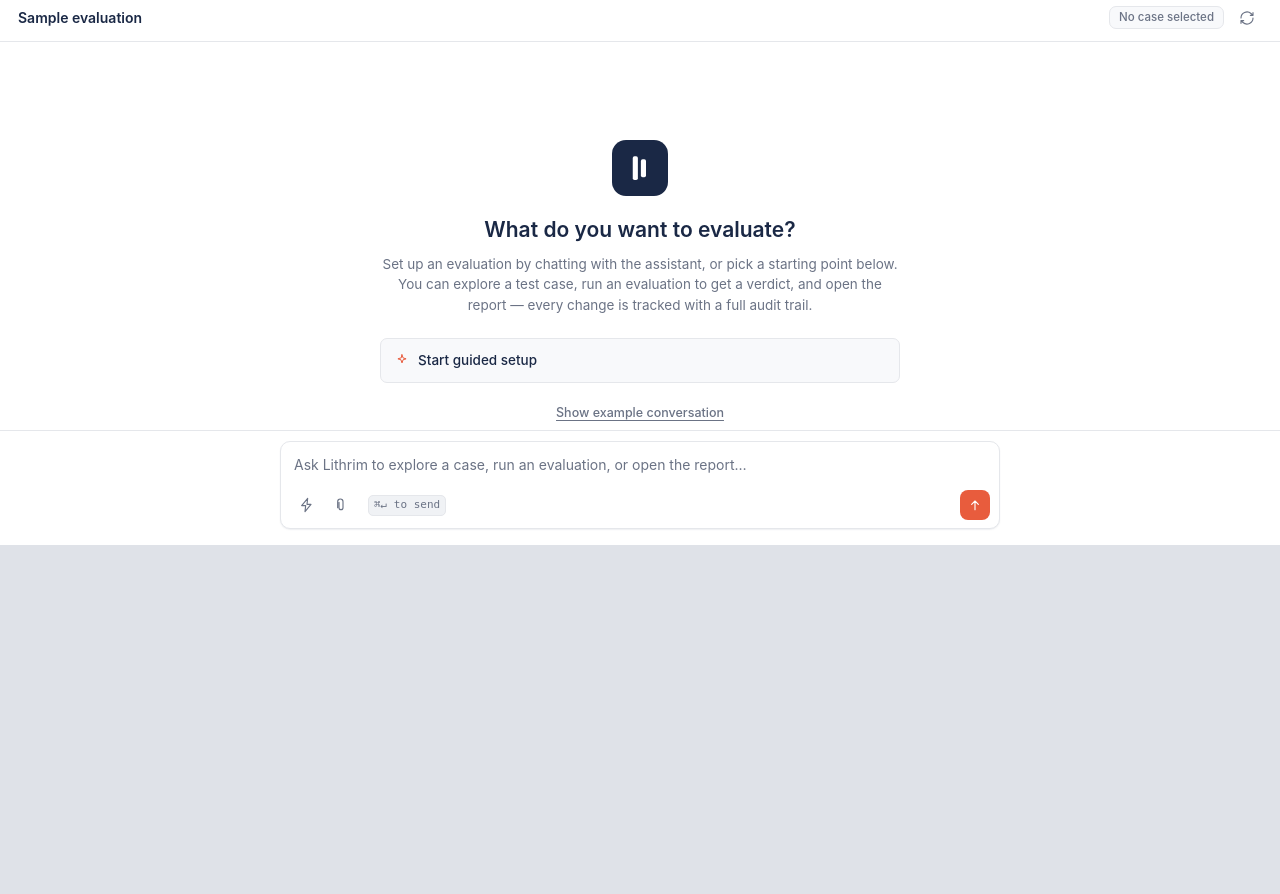
Scenario: CenterPane host mounts input tool-parts (S-BS-19) › mounts FlagEditor + ContractBuilder + KbPicker
Click the button "Show example conversation": click(640, 413) left=556, top=404, right=724, bottom=422
(page scrolled)
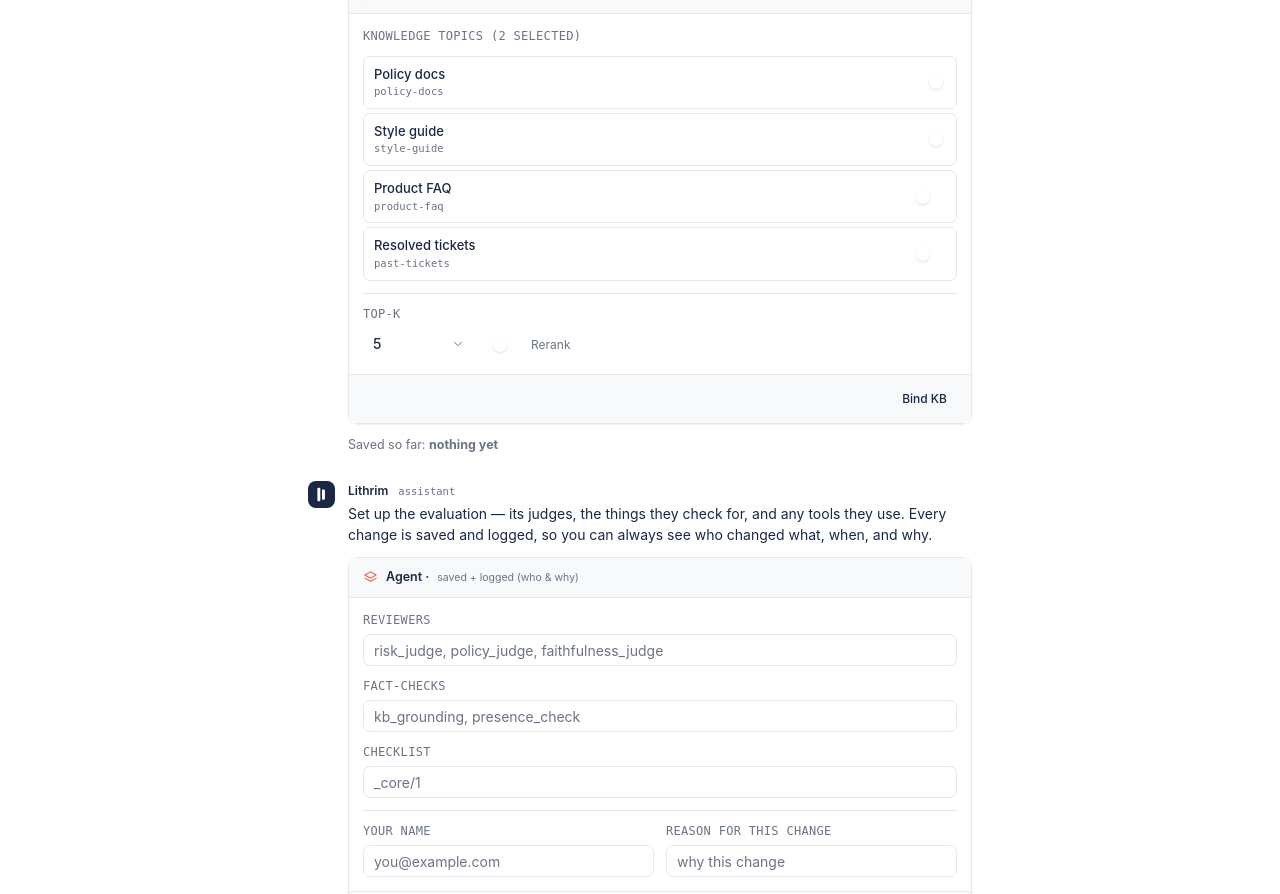
Now the button "Bind KB" is shown, box left=892, top=384, right=957, bottom=412
Now the text "Saved so far: nothing yet" is shown, box left=348, top=436, right=498, bottom=452
Now the text "nothing yet" is shown, box left=429, top=436, right=498, bottom=452
